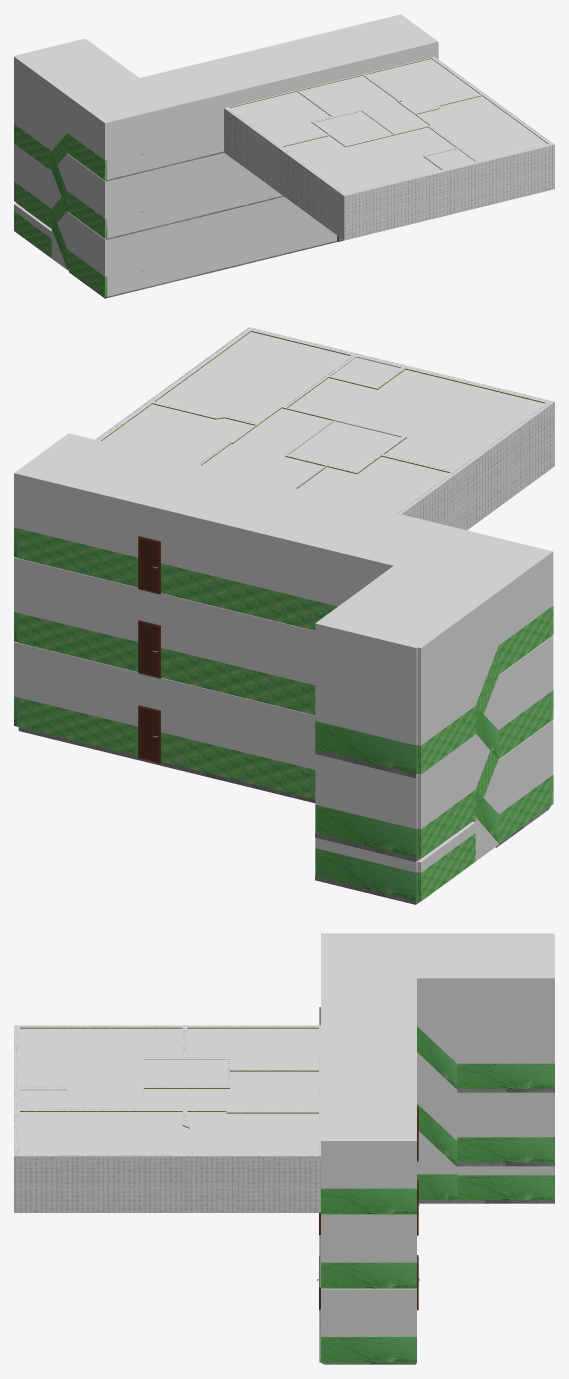
Rendered from Flat_Prototipe_1.fbx.
3 renders of one model, top to bottom at view 1: azimuth 30°, elevation 25°; view 2: azimuth 150°, elevation 25°; view 3: azimuth 270°, elevation 25°, orthographic. The views are drawn at different scales.
Visible parts, largest first — view 1: Steps, Roof_Flat, Wall_Flat, Plane; view 2: Steps, Roof_Flat, Plane, Wall_Flat, Door_1.005, Door_1.006, Door_1.002; view 3: Steps, Roof_Flat, Plane, Wall_Flat.
Part boxes in pixels (x1,y1,x2,y2): Steps: [14, 14, 438, 298]; Roof_Flat: [230, 59, 547, 193]; Wall_Flat: [224, 56, 554, 240]; Plane: [17, 16, 434, 121]; Steps: [14, 433, 553, 904]; Roof_Flat: [102, 332, 544, 512]; Plane: [19, 435, 547, 646]; Wall_Flat: [95, 327, 554, 530]; Door_1.005: [140, 623, 158, 676]; Door_1.006: [140, 708, 158, 762]; Door_1.002: [140, 538, 158, 592]; Steps: [319, 933, 554, 1364]; Roof_Flat: [20, 1028, 318, 1153]; Plane: [324, 934, 551, 1139]; Wall_Flat: [14, 1025, 320, 1212].
Size of the model in its own units: 23.91 by 12.12 by 26.32.
